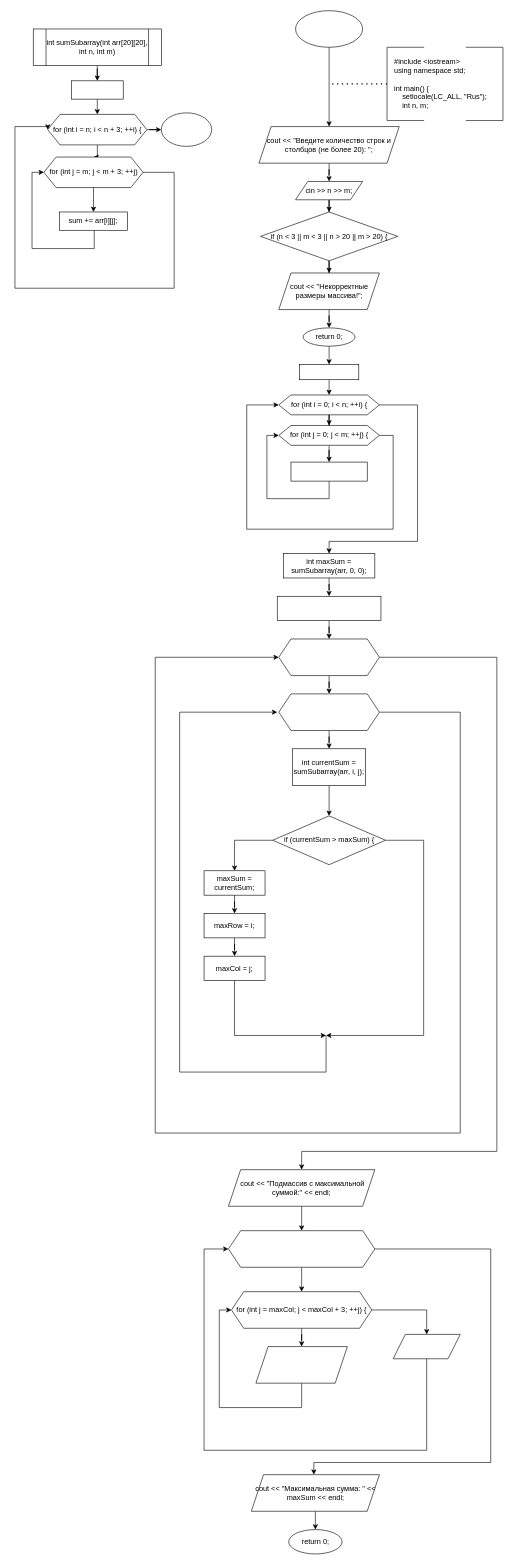
This 514x1565 diagram has some shape labels left out. The centre of each missing label's shape, as x and y in pixels:
arr[i][j] = rand()%100;: [328,471]
cout << arr[i][j] << " ";: [301,1364]
cout << endl;: [426,1346]
for (int i = 0; i <= n - 3; ++i) {: [328,657]
for (int i = maxRow; i < maxRow + 3; ++i) {: [301,1248]
for (int j = 0; j <= m - 3; ++j) {: [328,711]
int arr[20][20];: [329,372]
int maxRow = 0, maxCol = 0;: [329,608]
int sum = 0;: [97,89]
return sum;: [186,129]
Начало: [329,28]
